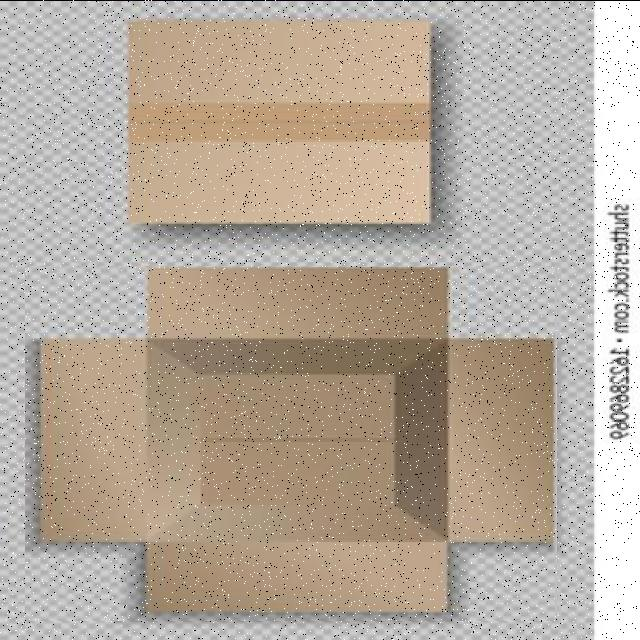defect: (25, 265, 557, 620)
normal: (122, 14, 440, 231)
